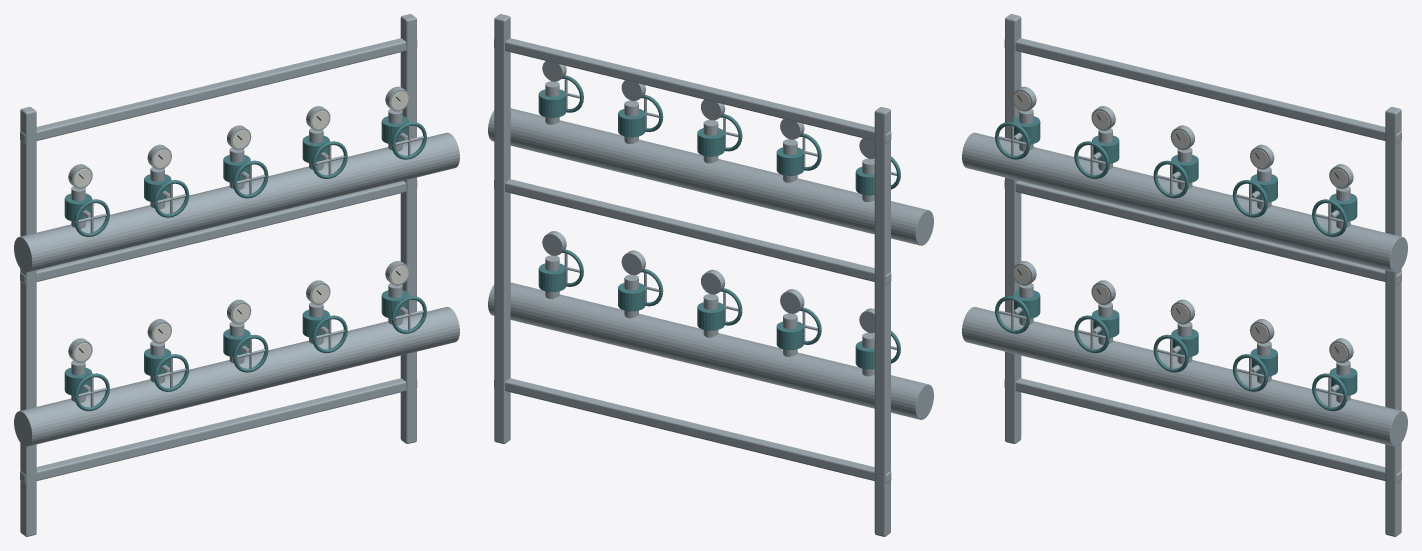
File: RD_ValveManifold.fbx
3 views of the same model, side by side, from view 1: azimuth 30°, elevation 25°; view 2: azimuth 150°, elevation 25°; view 3: azimuth 330°, elevation 25° (orthographic).
Parts seen in each view (by area): view 1: RD_ValveManifold; view 2: RD_ValveManifold; view 3: RD_ValveManifold.
Boxes of the visible parts, box(x1,y1,x2,y2) form: RD_ValveManifold: box(14, 14, 459, 536); RD_ValveManifold: box(488, 14, 933, 536); RD_ValveManifold: box(962, 14, 1407, 536).
Size of the model in its own units: 270 by 256 by 39.6.
